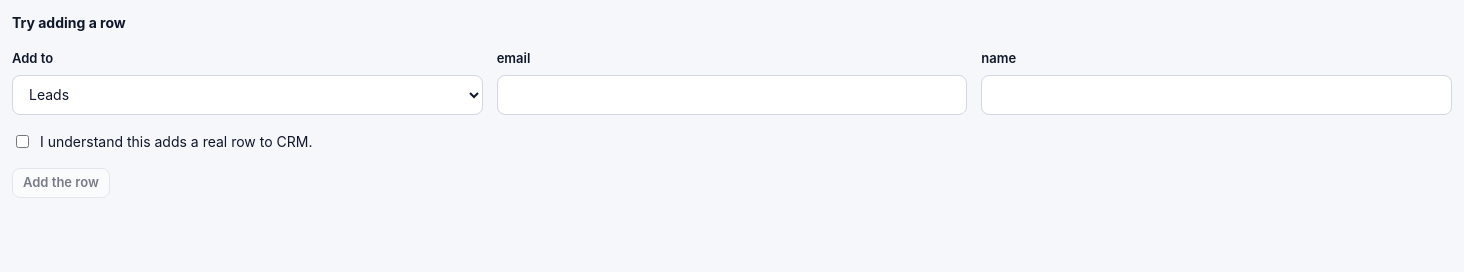
Test case: trying a write on a connector › what the other system refuses is said in its words
The width and height of the screenshot is (1464, 272).
Type "a@b.test" into the field labelled "email" at (732, 94), box [497,74,967,114]
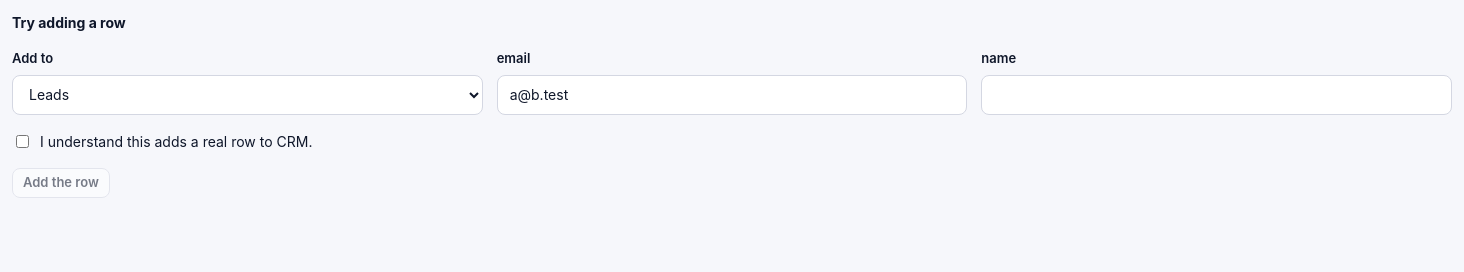
Click the checkbox labelled "I understand this adds a real row to CRM." at (22, 141), box [16,134,29,148]
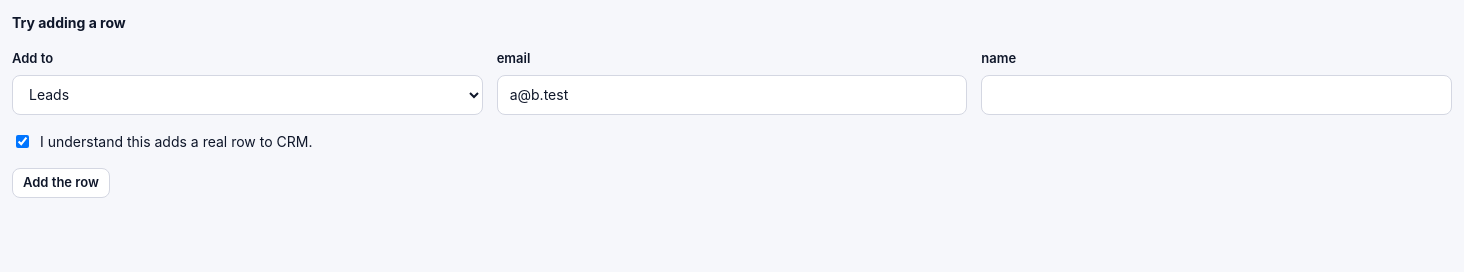
Click the button "Add the row" at (61, 182), box [12,168,110,198]
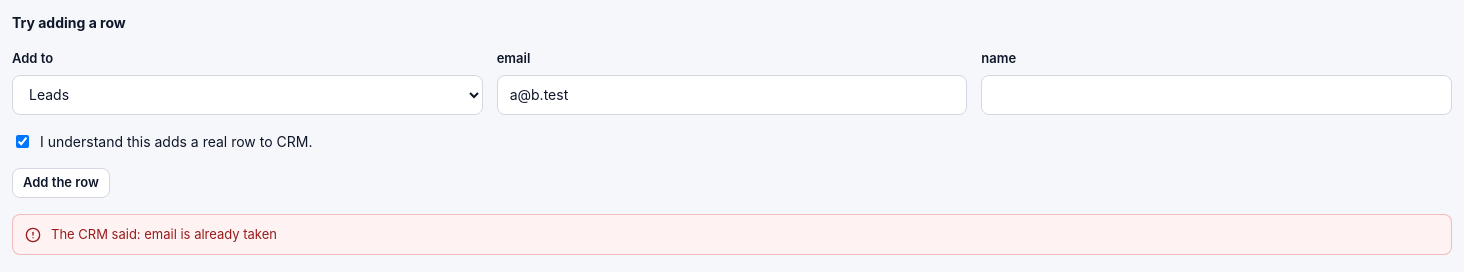
Result: the text "The CRM said: email is already taken" is shown at [51,224,277,244]
